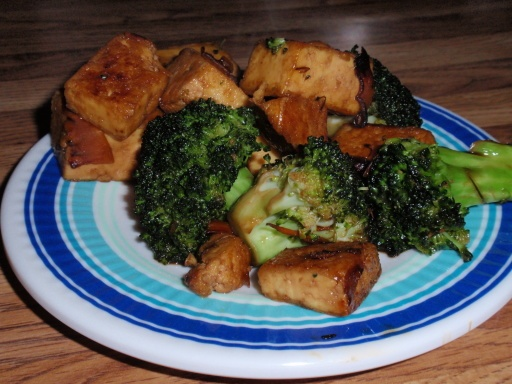background: (40, 18, 409, 190)
